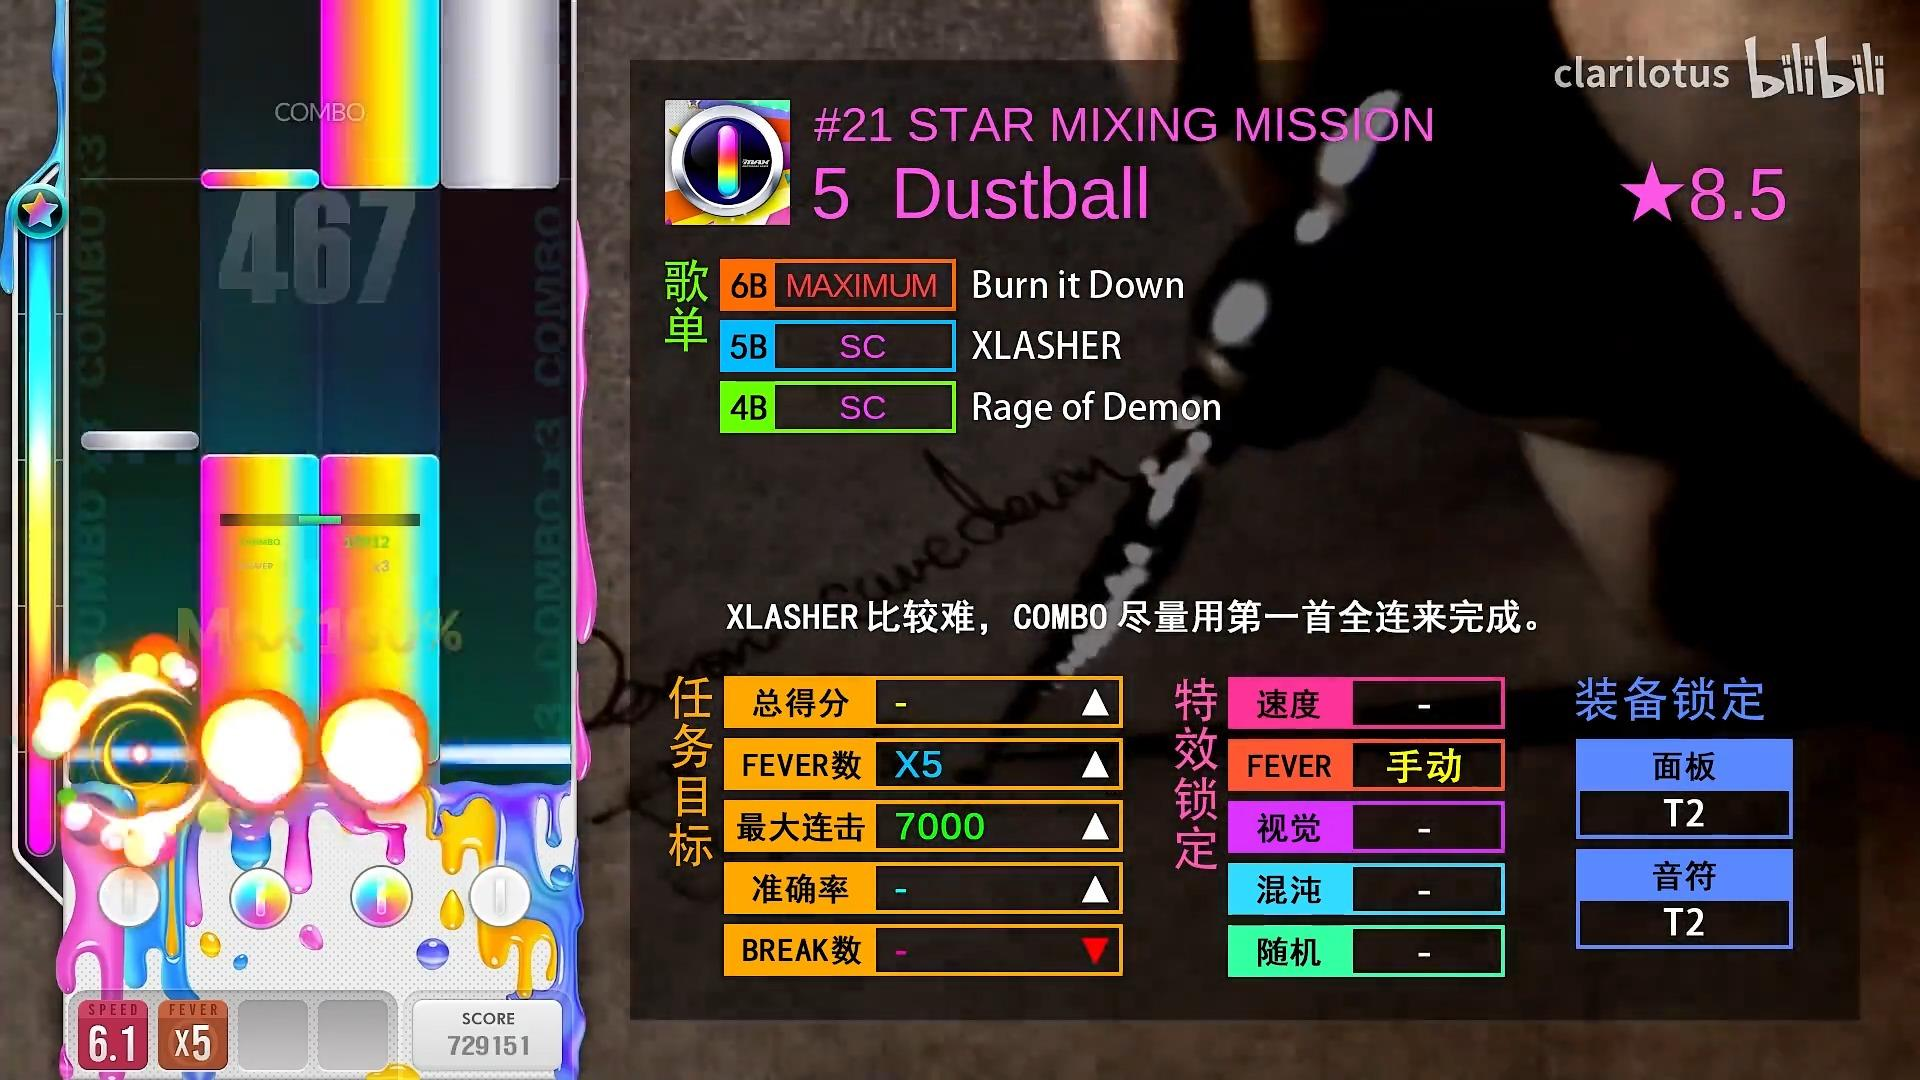hold-end: (199, 452, 320, 472), (320, 452, 440, 472)
hold-start: (440, 169, 559, 190), (319, 170, 440, 190)
note: (200, 169, 319, 190), (80, 431, 199, 451)
